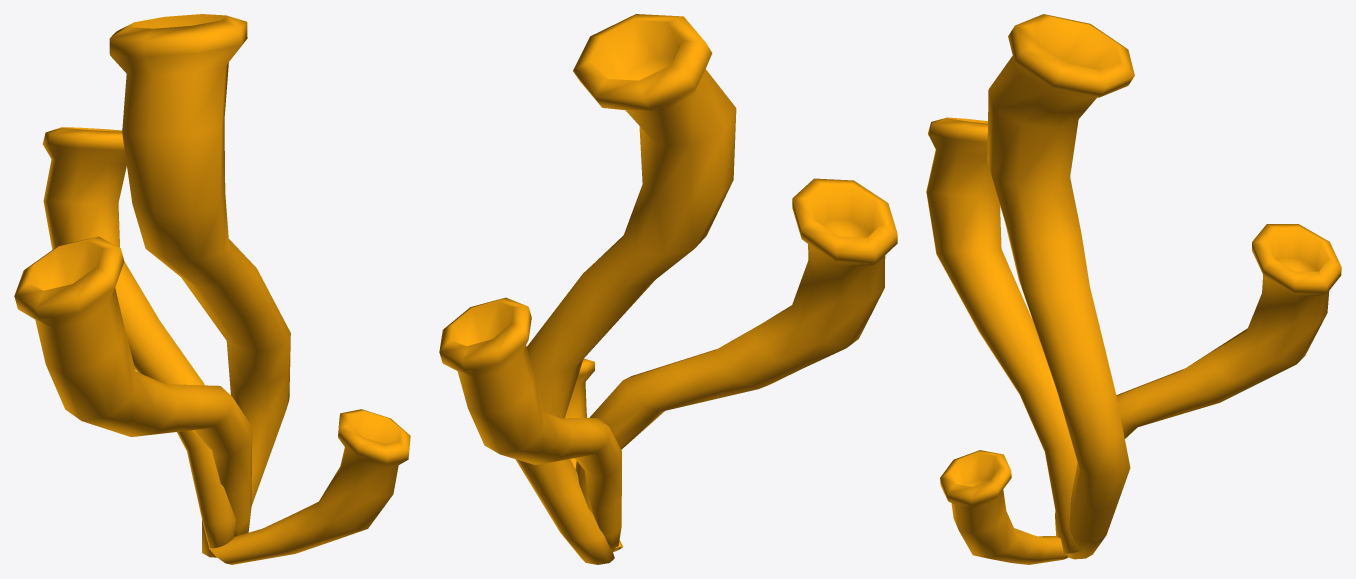
Rendered from kelp.fbx.
The picture shows the model from 3 angles, left to right: view 1: azimuth 30°, elevation 25°; view 2: azimuth 150°, elevation 25°; view 3: azimuth 270°, elevation 25°; orthographic projection. The views are drawn at different scales.
Visible parts, largest first — view 1: kelp 5.002; view 2: kelp 5.002; view 3: kelp 5.002.
Part boxes in pixels (left/top/right/bottom): kelp 5.002: left=14, top=14, right=410, bottom=564; kelp 5.002: left=439, top=14, right=897, bottom=564; kelp 5.002: left=926, top=14, right=1341, bottom=564.
Size of the model in its own units: 108 by 151 by 112.
